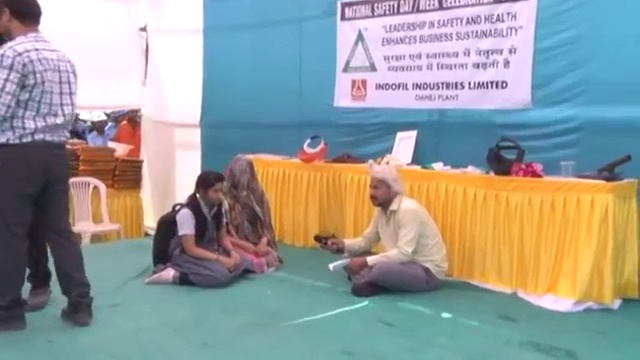helmet: (107, 142, 135, 158), (89, 112, 108, 124)
helmet_off: (361, 166, 403, 215), (228, 159, 261, 209), (190, 171, 225, 216), (0, 4, 46, 38), (127, 109, 141, 126)
helmet_on: (88, 112, 108, 136)
person: (0, 0, 90, 327), (326, 163, 447, 303), (151, 172, 254, 293), (220, 157, 284, 275), (115, 109, 142, 157), (86, 112, 112, 149)
